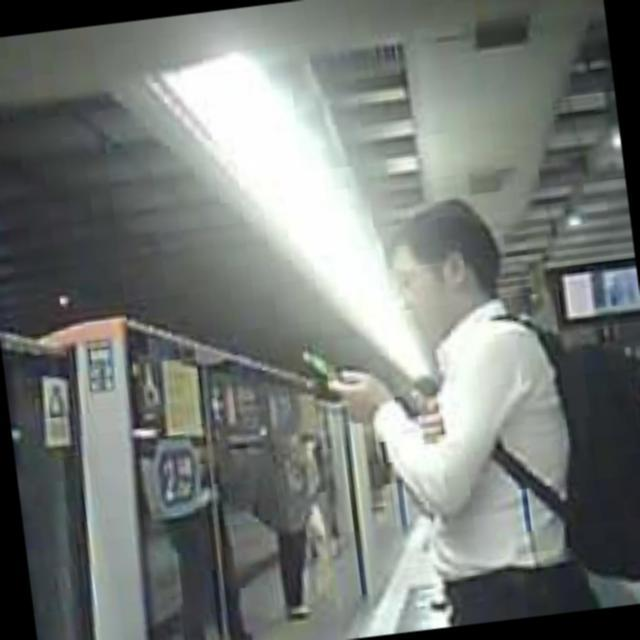person: (312, 184, 600, 637), (154, 409, 255, 640), (244, 406, 344, 624)
